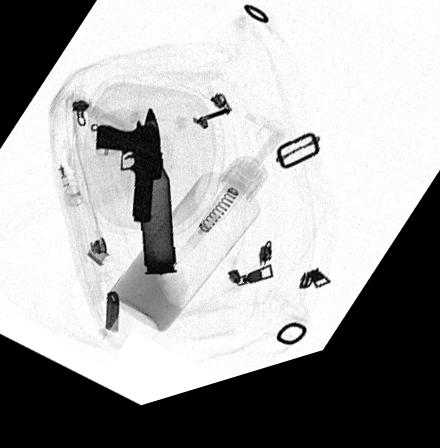Bullet: (136, 115, 176, 284)
Gun: (94, 127, 157, 231)
